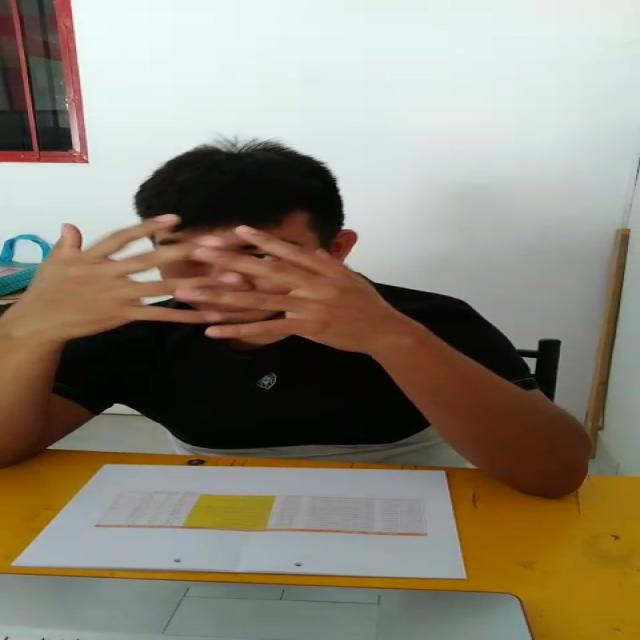7_mano_rostro: (111, 216, 371, 358)
